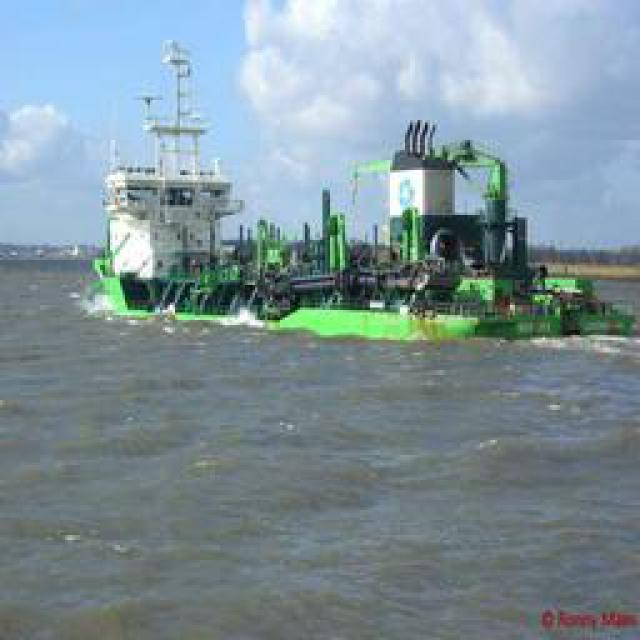Ship: (89, 48, 637, 350)
